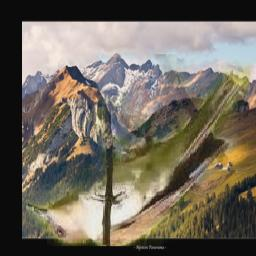Cuckoo: (26, 55, 250, 247)
